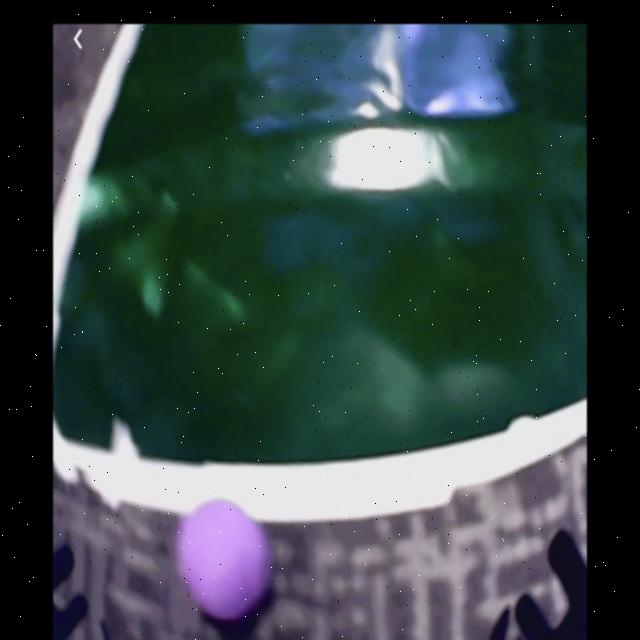ball: (181, 500, 273, 623)
